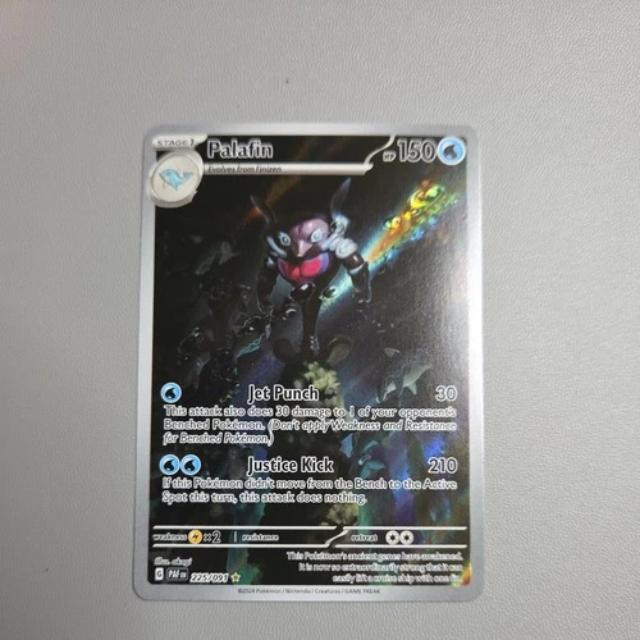Card: (128, 119, 492, 604)
Name: (200, 133, 276, 161)
